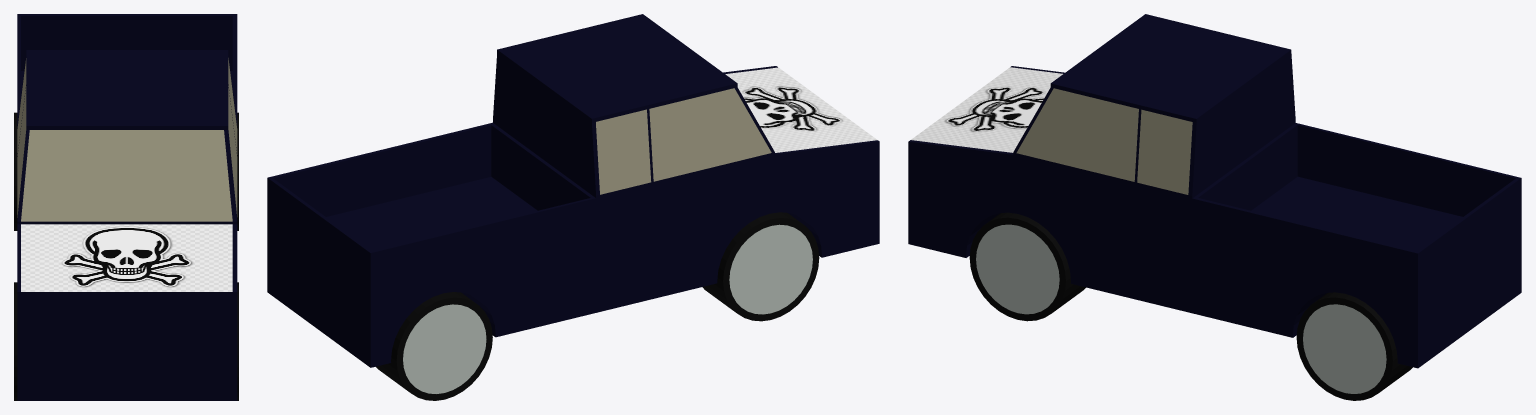
File: Truck.obj
3 views of the same model, side by side, from view 1: azimuth 30°, elevation 25°; view 2: azimuth 150°, elevation 25°; view 3: azimuth 270°, elevation 25° (orthographic). The views are drawn at different scales.
Parts seen in each view (by area): view 1: Cylinder.001; view 2: Cylinder.001; view 3: Cylinder.001.
Part boxes in pixels (x1,y1,x2,y2): Cylinder.001: [14, 14, 238, 400]; Cylinder.001: [267, 14, 879, 400]; Cylinder.001: [908, 14, 1521, 400].
Size of the model in its own units: 0.1242 by 0.0694 by 0.1609.
Materials: 5 (1 with a texture image).
